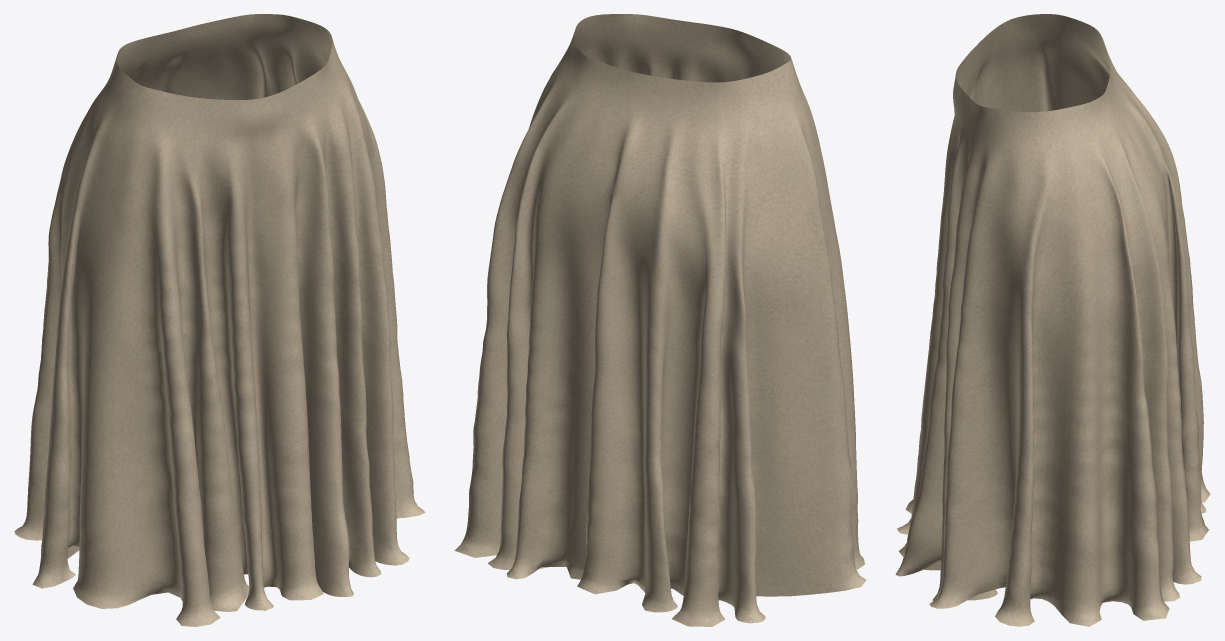
Rendered from skirt.glb.
3 views of the same model, side by side, from view 1: azimuth 30°, elevation 25°; view 2: azimuth 150°, elevation 25°; view 3: azimuth 270°, elevation 25° (orthographic). The views are drawn at different scales.
Parts seen in each view (by area): view 1: Gothic skirt; view 2: Gothic skirt; view 3: Gothic skirt.
Part boxes in pixels (bbox=[...]): Gothic skirt: bbox=[14, 14, 425, 626]; Gothic skirt: bbox=[455, 14, 866, 626]; Gothic skirt: bbox=[895, 14, 1210, 626].
Bounding box in the file's own units: 0.4905 × 0.6491 × 0.3749.
Materials: 1 (1 with a texture image).
